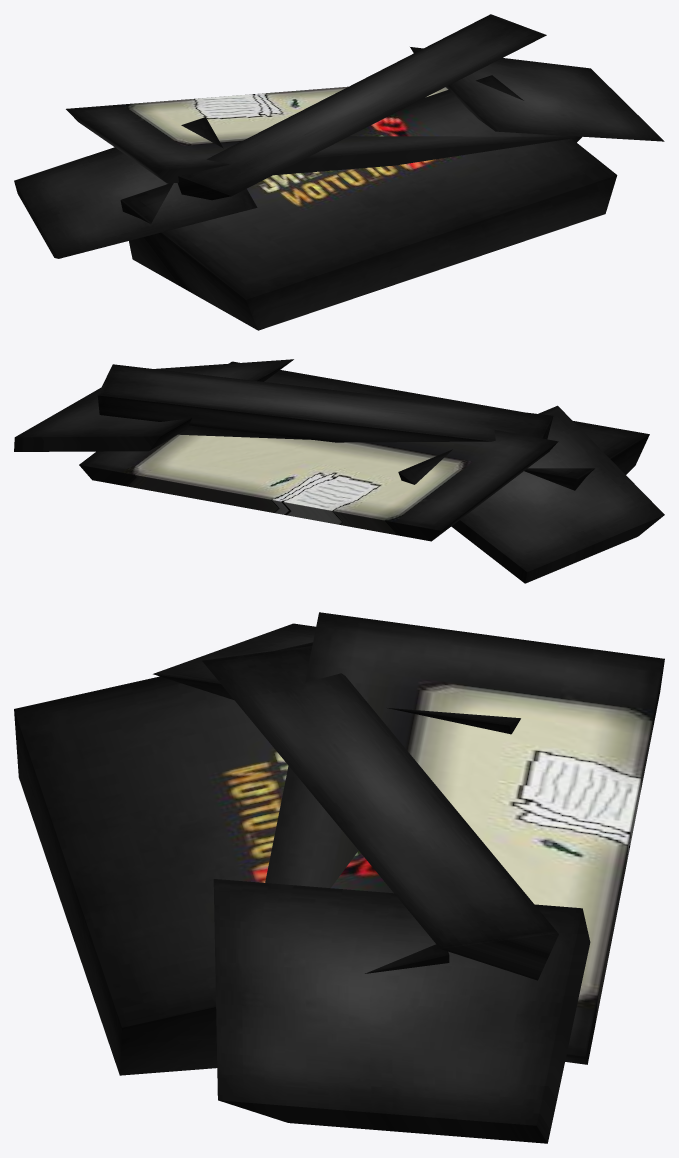
Rendered from desk.glb.
The picture shows the model from 3 angles, top to bottom: view 1: azimuth 30°, elevation 25°; view 2: azimuth 150°, elevation 25°; view 3: azimuth 270°, elevation 25°; orthographic projection. The views are drawn at different scales.
Visible parts, largest first — view 1: desk; view 2: desk; view 3: desk.
Part boxes in pixels (x1,y1,x2,y2): desk: (14, 14, 664, 330); desk: (14, 359, 664, 583); desk: (14, 612, 664, 1143).
Size of the model in its own units: 152 by 23.65 by 86.61.
5 materials, 5 textured.
